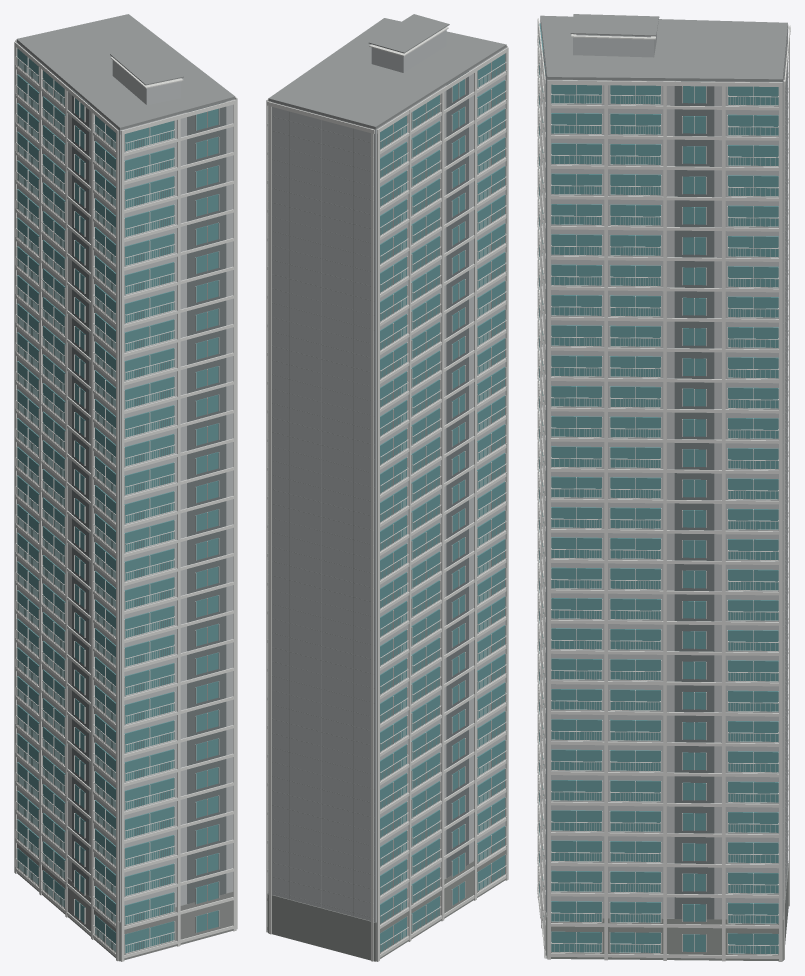
File: bespoke-jamsil-ricenz-229.glb
3 renders of one model, left to right at view 1: azimuth 30°, elevation 25°; view 2: azimuth 150°, elevation 25°; view 3: azimuth 270°, elevation 25°, orthographic. The views are drawn at different scales.
Parts seen in each view (by area): view 1: Ricenz229_editable_Ricenz229_turquoise_balcony_glazing, Ricenz229_white_exact_chunk_2, Ricenz229_editable_Ricenz229_light_grey_solid_wall, Ricenz229_editable_Ricenz229_narrow_charcoal_service_strips, Ricenz229_white_exact_chunk_3, Ricenz229_white_exact_chunk_1, Ricenz229_editable_Ricenz229_modest_grey_flat_roof_caps, Ricenz229_editable_Ricenz229_muted_ground_wall; view 2: Ricenz229_editable_Ricenz229_light_grey_solid_wall, Ricenz229_editable_Ricenz229_turquoise_balcony_glazing, Ricenz229_white_exact_chunk_2, Ricenz229_white_exact_chunk_1, Ricenz229_editable_Ricenz229_modest_grey_flat_roof_caps, Ricenz229_editable_Ricenz229_narrow_charcoal_service_strips, Ricenz229_editable_Ricenz229_muted_ground_wall; view 3: Ricenz229_editable_Ricenz229_turquoise_balcony_glazing, Ricenz229_editable_Ricenz229_light_grey_solid_wall, Ricenz229_white_exact_chunk_0, Ricenz229_white_exact_chunk_1, Ricenz229_editable_Ricenz229_narrow_charcoal_service_strips, Ricenz229_editable_Ricenz229_modest_grey_flat_roof_caps, Ricenz229_white_exact_chunk_3, Ricenz229_editable_Ricenz229_muted_ground_wall, Ricenz229_white_exact_chunk_2.
Boxes of the visible parts, left/top/right/bottom form: Ricenz229_editable_Ricenz229_turquoise_balcony_glazing: left=17, top=48, right=218, bottom=953; Ricenz229_white_exact_chunk_2: left=14, top=41, right=177, bottom=961; Ricenz229_editable_Ricenz229_light_grey_solid_wall: left=16, top=42, right=235, bottom=921; Ricenz229_editable_Ricenz229_narrow_charcoal_service_strips: left=72, top=89, right=226, bottom=903; Ricenz229_white_exact_chunk_3: left=110, top=57, right=236, bottom=961; Ricenz229_white_exact_chunk_1: left=15, top=40, right=237, bottom=929; Ricenz229_editable_Ricenz229_modest_grey_flat_roof_caps: left=16, top=14, right=235, bottom=130; Ricenz229_editable_Ricenz229_muted_ground_wall: left=17, top=838, right=233, bottom=961; Ricenz229_editable_Ricenz229_light_grey_solid_wall: left=268, top=30, right=506, bottom=922; Ricenz229_editable_Ricenz229_turquoise_balcony_glazing: left=380, top=54, right=505, bottom=952; Ricenz229_white_exact_chunk_2: left=377, top=47, right=508, bottom=961; Ricenz229_white_exact_chunk_1: left=266, top=99, right=441, bottom=961; Ricenz229_editable_Ricenz229_modest_grey_flat_roof_caps: left=268, top=14, right=506, bottom=918; Ricenz229_editable_Ricenz229_narrow_charcoal_service_strips: left=446, top=71, right=468, bottom=877; Ricenz229_editable_Ricenz229_muted_ground_wall: left=267, top=845, right=505, bottom=961; Ricenz229_editable_Ricenz229_turquoise_balcony_glazing: left=539, top=23, right=778, bottom=953; Ricenz229_editable_Ricenz229_light_grey_solid_wall: left=540, top=19, right=787, bottom=918; Ricenz229_white_exact_chunk_0: left=551, top=85, right=778, bottom=958; Ricenz229_white_exact_chunk_1: left=547, top=25, right=790, bottom=961; Ricenz229_editable_Ricenz229_narrow_charcoal_service_strips: left=543, top=54, right=714, bottom=919; Ricenz229_editable_Ricenz229_modest_grey_flat_roof_caps: left=540, top=14, right=788, bottom=914; Ricenz229_white_exact_chunk_3: left=537, top=18, right=655, bottom=958; Ricenz229_editable_Ricenz229_muted_ground_wall: left=539, top=863, right=788, bottom=961; Ricenz229_white_exact_chunk_2: left=537, top=24, right=788, bottom=921.
Bounding box in the file's own units: 13.87 × 88.33 × 22.42.
